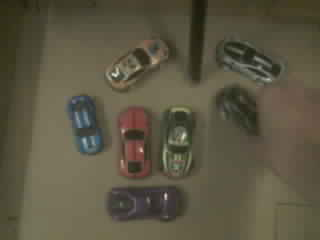Car: (105, 39, 169, 91), (217, 40, 282, 82), (160, 106, 194, 177), (108, 186, 181, 219), (120, 106, 151, 178), (217, 85, 256, 134), (70, 95, 102, 152)
